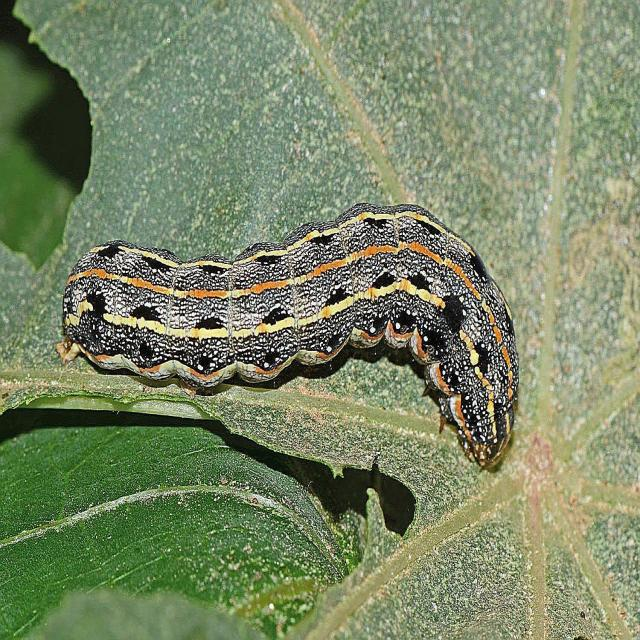Armyworm: (59, 206, 541, 473)
Armyworm_damage: (1, 1, 107, 281)
